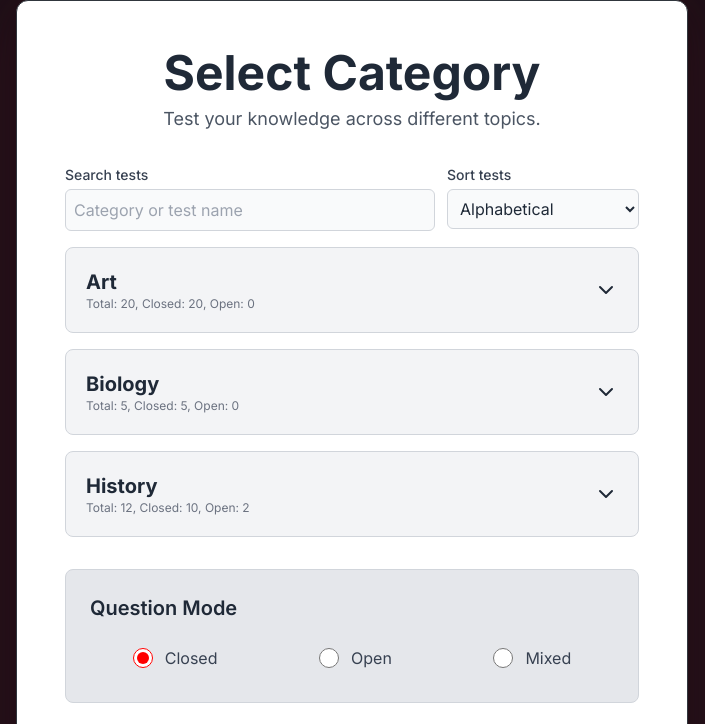
Test: TestSetupPage - user interaction scenarios › filters the list by category or test name
Expected: the text "History" is shown, [86, 472, 158, 500]
Step 1. Type "cell" into the search field labelled "Search tests" → x=250, y=210, box [65, 189, 435, 231]
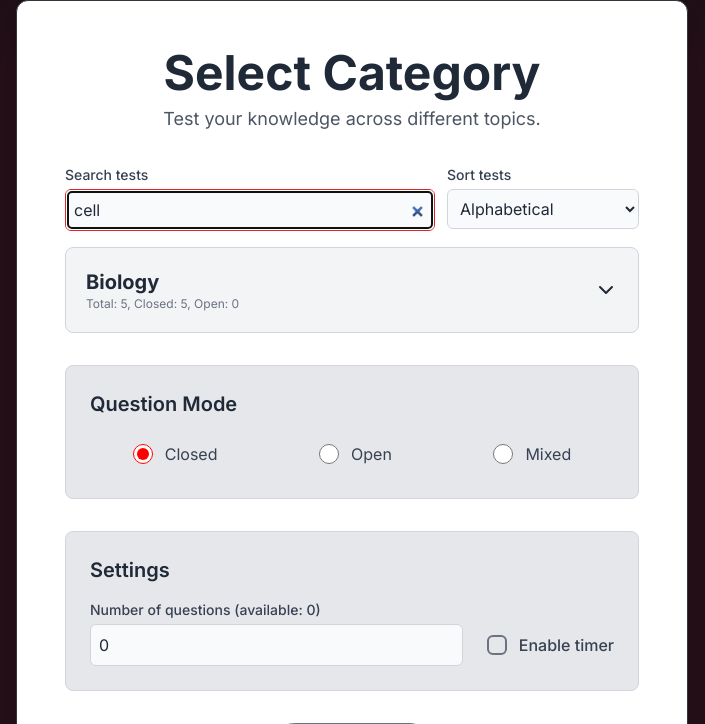
Expected: the text "Biology" is shown, [86, 268, 159, 296]
Expected: the button "History" is gone
